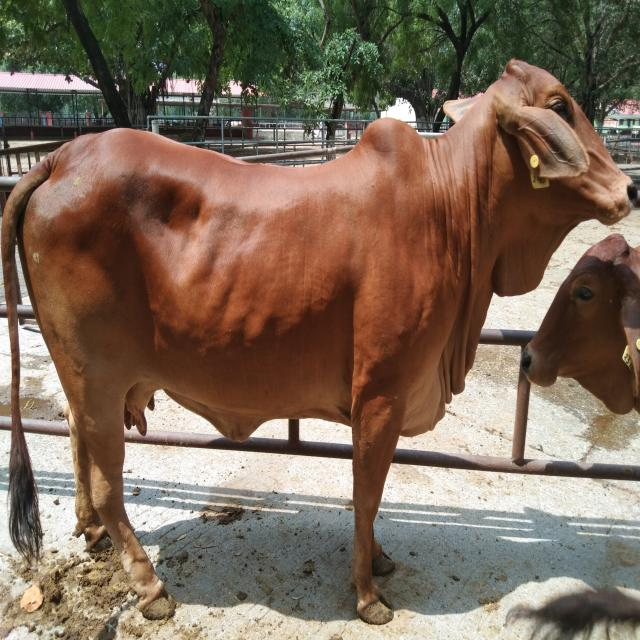cow: (1, 58, 638, 626)
hump: (359, 116, 422, 156)
